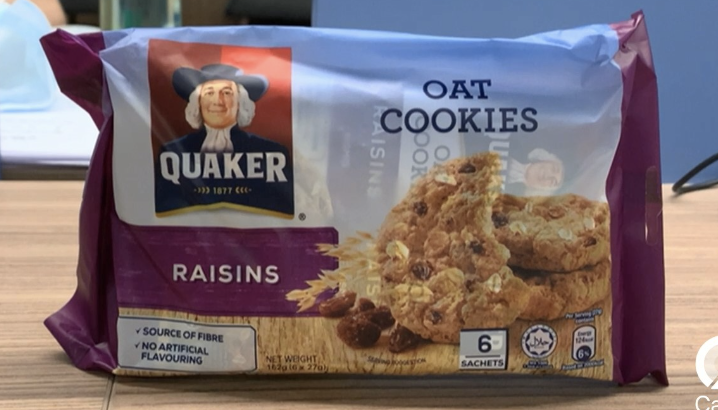crackers_100g-199g: (108, 41, 623, 372)
